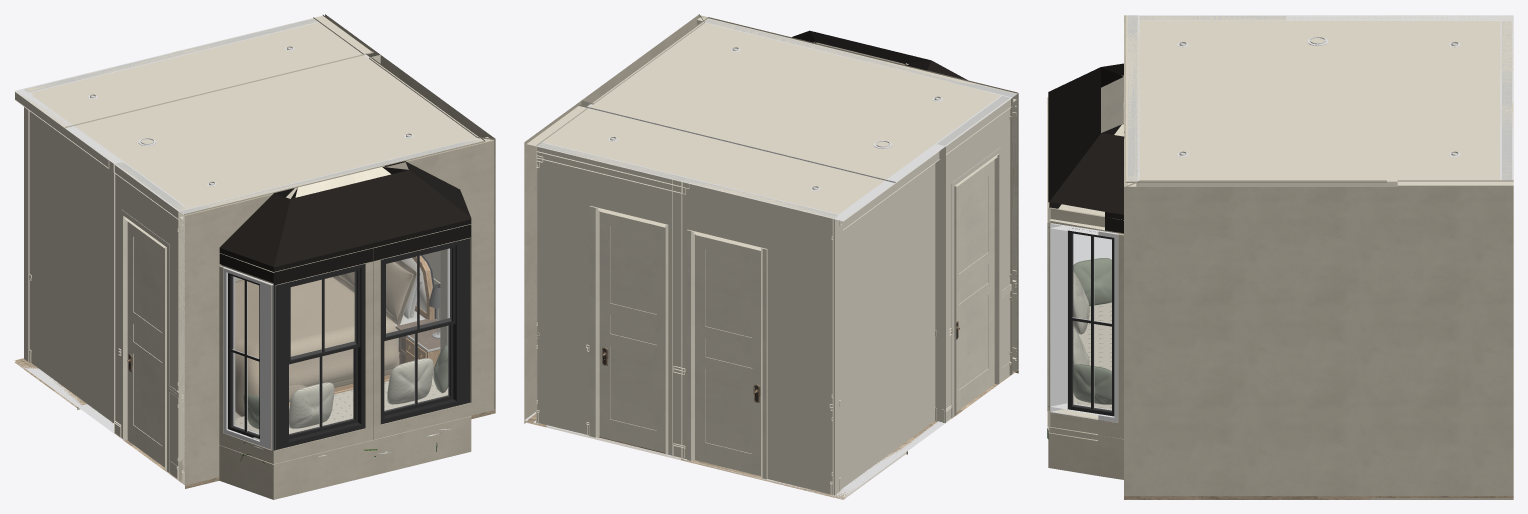
Rendered from loli-bedroom-a119bd8f94aa.glb.
3 views of the same model, side by side, from view 1: azimuth 30°, elevation 25°; view 2: azimuth 150°, elevation 25°; view 3: azimuth 270°, elevation 25° (orthographic). The views are drawn at different scales.
Visible parts, largest first — view 1: loli-bedroom-dbd60ee5c3733ed6, loli-bedroom-6a1144f4e43410bb, loli-bedroom-93447d0fea18c81b, loli-bedroom-fd1c2425c72e98e4, loli-bedroom-4cda501b4aaed82b, loli-bedroom-daa4f3edc919433a, loli-bedroom-2575515a05775d9e, loli-bedroom-7cd33252cebb505d, loli-bedroom-527014f532f46c8e, loli-bedroom-cf6d22c5317ced0b, loli-bedroom-75b75731e5e739a5, loli-bedroom-1c854c81caf855fc (+23 smaller); view 2: loli-bedroom-0e637d2be41161fb, loli-bedroom-dbd60ee5c3733ed6, loli-bedroom-6a1144f4e43410bb, loli-bedroom-eceff908bd344cec, loli-bedroom-5b37b110dc0e2cdc, loli-bedroom-2575515a05775d9e, loli-bedroom-68d06b361ac47823, loli-bedroom-cf6d22c5317ced0b, loli-bedroom-319244b3406409d9, loli-bedroom-93447d0fea18c81b, loli-bedroom-d6b1bc8c737b28e2, loli-bedroom-8cbce1d8f2f8a576 (+13 smaller); view 3: loli-bedroom-592bd9af2ed71797, loli-bedroom-dbd60ee5c3733ed6, loli-bedroom-319244b3406409d9, loli-bedroom-2575515a05775d9e, loli-bedroom-53e6a9e479527da3, loli-bedroom-daa4f3edc919433a, loli-bedroom-131a246e00605616, loli-bedroom-d8b729a36612415b, loli-bedroom-4fba7e1fe7b1aa39, loli-bedroom-93447d0fea18c81b, loli-bedroom-0e637d2be41161fb, loli-bedroom-e0a3201bd49c7536 (+13 smaller).
Part boxes in pixels (x1,y1,x2,y2): loli-bedroom-dbd60ee5c3733ed6: (75,53,485,215); loli-bedroom-6a1144f4e43410bb: (14,88,123,433); loli-bedroom-93447d0fea18c81b: (178,138,493,485); loli-bedroom-fd1c2425c72e98e4: (273,264,365,450); loli-bedroom-4cda501b4aaed82b: (381,237,471,424); loli-bedroom-daa4f3edc919433a: (273,167,471,285); loli-bedroom-2575515a05775d9e: (18,15,373,127); loli-bedroom-7cd33252cebb505d: (235,277,399,416); loli-bedroom-527014f532f46c8e: (223,267,273,450); loli-bedroom-cf6d22c5317ced0b: (127,222,164,467); loli-bedroom-75b75731e5e739a5: (272,259,470,469); loli-bedroom-1c854c81caf855fc: (273,421,471,499); loli-bedroom-0e637d2be41161fb: (536,142,839,495); loli-bedroom-dbd60ee5c3733ed6: (586,17,1017,182); loli-bedroom-6a1144f4e43410bb: (833,144,945,497); loli-bedroom-eceff908bd344cec: (599,211,665,452); loli-bedroom-5b37b110dc0e2cdc: (695,234,760,475); loli-bedroom-2575515a05775d9e: (526,105,889,220); loli-bedroom-68d06b361ac47823: (935,95,1011,422); loli-bedroom-cf6d22c5317ced0b: (956,159,994,411); loli-bedroom-319244b3406409d9: (524,100,592,422); loli-bedroom-93447d0fea18c81b: (701,15,1018,374); loli-bedroom-d6b1bc8c737b28e2: (687,229,767,479); loli-bedroom-8cbce1d8f2f8a576: (954,154,999,416); loli-bedroom-592bd9af2ed71797: (1124,180,1386,495); loli-bedroom-dbd60ee5c3733ed6: (1126,15,1397,182); loli-bedroom-319244b3406409d9: (1387,180,1513,495); loli-bedroom-2575515a05775d9e: (1397,15,1513,186); loli-bedroom-53e6a9e479527da3: (1050,223,1118,422); loli-bedroom-daa4f3edc919433a: (1048,67,1123,222); loli-bedroom-131a246e00605616: (1049,124,1124,233); loli-bedroom-d8b729a36612415b: (1048,233,1123,444); loli-bedroom-4fba7e1fe7b1aa39: (1048,433,1123,479); loli-bedroom-93447d0fea18c81b: (1124,15,1139,186); loli-bedroom-0e637d2be41161fb: (1500,20,1513,180); loli-bedroom-e0a3201bd49c7536: (1073,302,1111,409).
Bounding box in the file's own units: 3.62 × 3.05 × 4.12.
47 materials, 15 textured.
